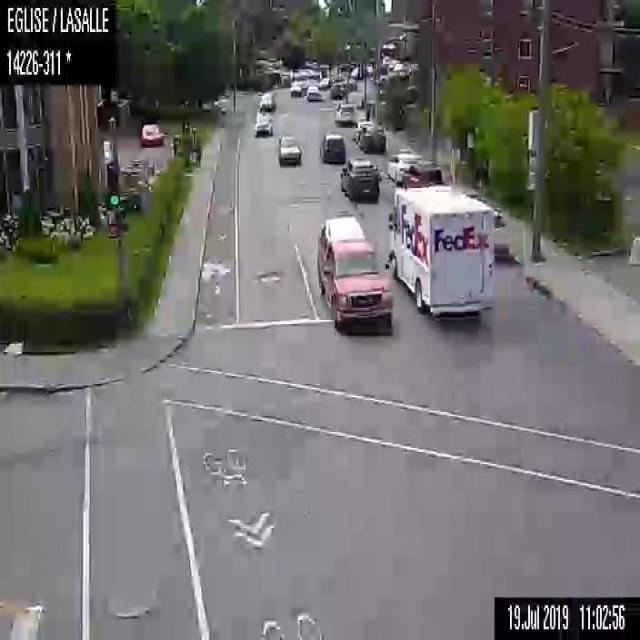vehicle: (385, 183, 492, 321), (316, 214, 392, 338), (338, 158, 381, 202), (386, 150, 421, 184), (400, 159, 441, 186), (318, 130, 345, 165), (276, 133, 302, 164), (359, 124, 385, 153), (138, 122, 164, 147), (333, 100, 358, 126), (253, 110, 273, 138), (256, 91, 277, 113), (305, 83, 322, 102), (288, 79, 305, 96)
